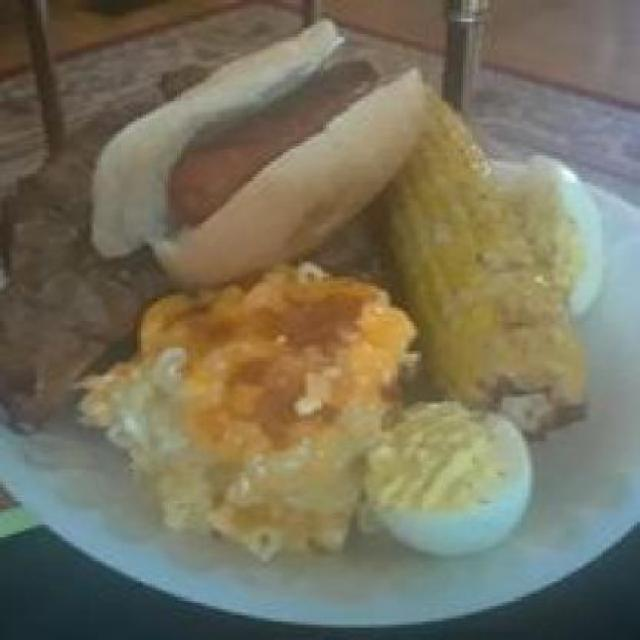deviled eggs: (376, 398, 532, 553), (507, 152, 608, 320)
hot dog: (96, 9, 416, 268)
macaroni and cheese: (75, 276, 392, 544)
